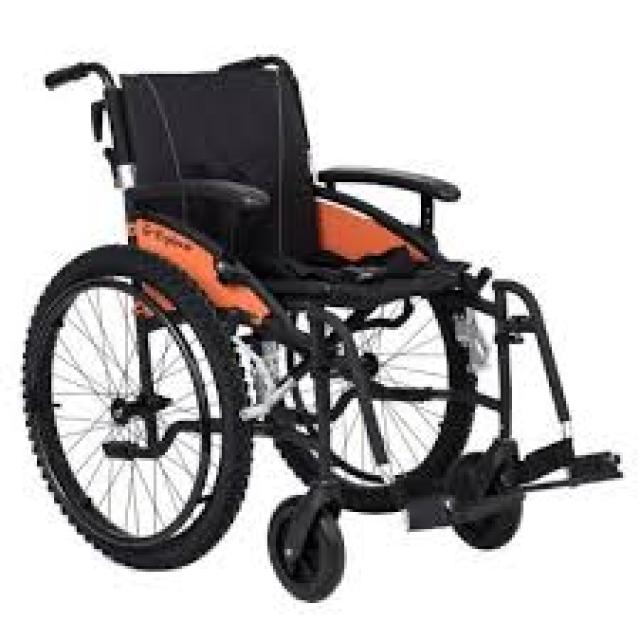wheelchairs: (17, 51, 634, 609)
